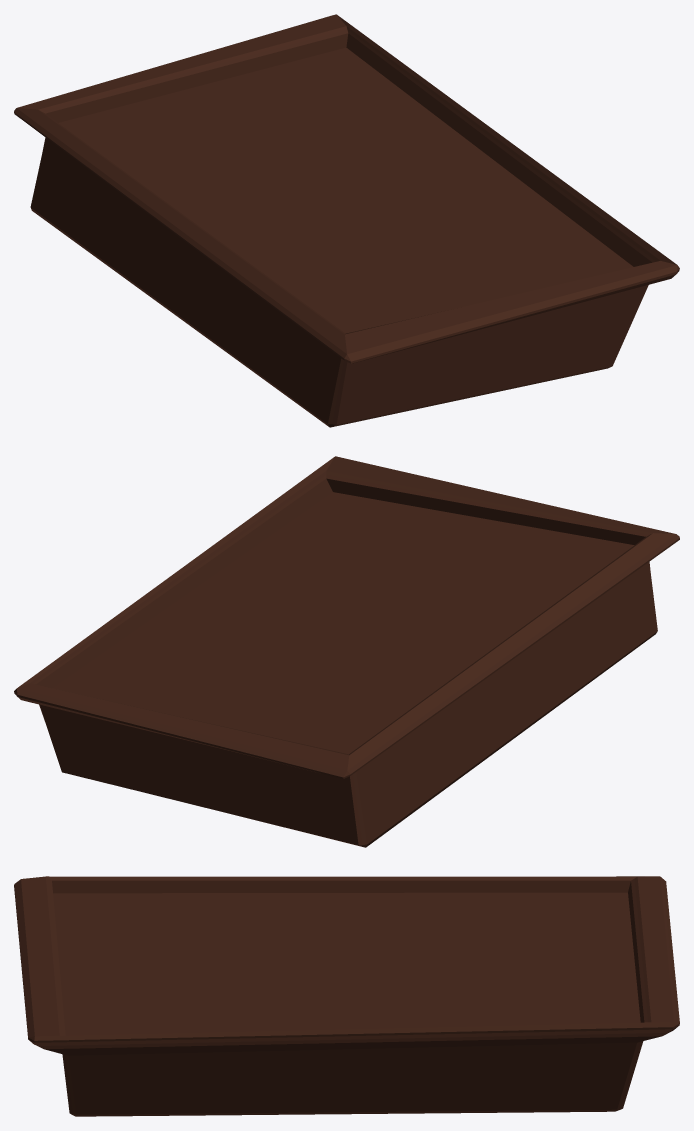
File: garden_bed.fbx
3 renders of one model, top to bottom at view 1: azimuth 30°, elevation 25°; view 2: azimuth 150°, elevation 25°; view 3: azimuth 270°, elevation 25°, orthographic. The views are drawn at different scales.
Parts seen in each view (by area): view 1: wood_box; view 2: wood_box; view 3: wood_box.
Part boxes in pixels (x1=…): wood_box: x1=14, y1=14, x2=679, y2=427; wood_box: x1=14, y1=456, x2=679, y2=847; wood_box: x1=14, y1=876, x2=679, y2=1116.
Bounding box in the file's own units: 44.09 × 14.43 × 76.94.
